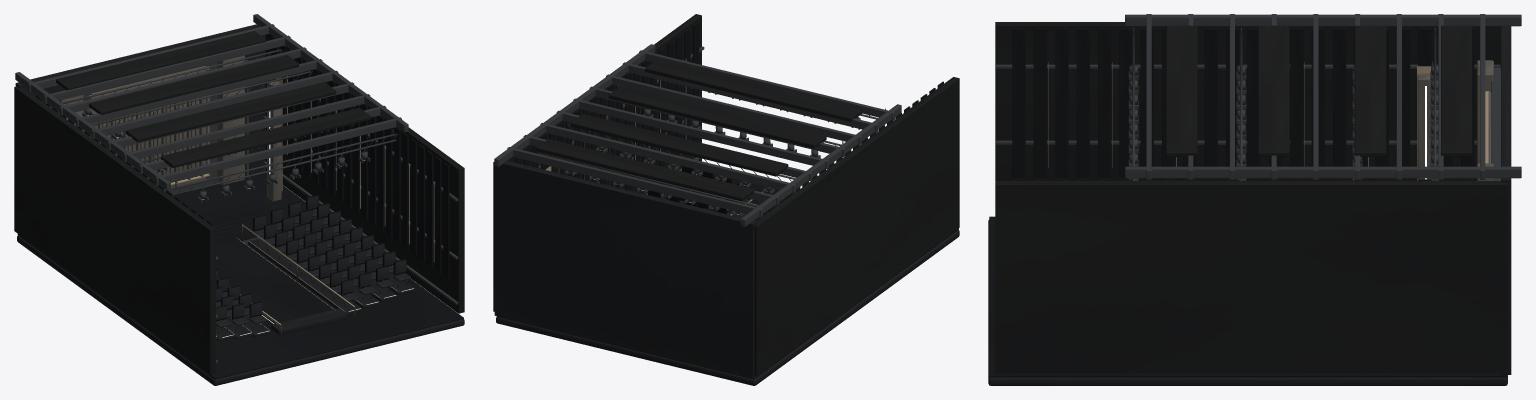
File: EXO01.glb
The picture shows the model from 3 angles, left to right: view 1: azimuth 30°, elevation 25°; view 2: azimuth 150°, elevation 25°; view 3: azimuth 270°, elevation 25°; orthographic projection. The views are drawn at different scales.
Visible parts, largest first — view 1: EXO_STAGE01_Architecture__Soft charcoal acoustic architectur, EXO_STAGE01_Architecture__Brushed black steel, EXO_STAGE01_ArchitecturalDetails__Black basalt with mineral , EXO_STAGE01_Architecture__Black basalt with mineral aggregat, EXO_STAGE01_Audience__Midnight grey wool boucle seating, EXO_STAGE01_Runway__Black basalt with mineral aggregat, EXO_STAGE01_Architecture__Dark concrete construction, EXO_STAGE01_Audience__Dark concrete construction, EXO_STAGE01_PracticalLighting__Brushed black steel, EXO_STAGE01_Architecture__Warm honed architectural limestone, EXO_STAGE01_Audience__Black leather seat shells, EXO_STAGE01_ArchitecturalDetails__Warm honed architectural l (+3 smaller); view 2: EXO_STAGE01_Architecture__Soft charcoal acoustic architectur, EXO_STAGE01_Architecture__Dark concrete construction, EXO_STAGE01_Architecture__Brushed black steel, EXO_STAGE01_ArchitecturalDetails__Black basalt with mineral , EXO_STAGE01_PracticalLighting__Brushed black steel, EXO_STAGE01_Architecture__Black basalt with mineral aggregat, EXO_STAGE01_Audience__Black leather seat shells; view 3: EXO_STAGE01_Architecture__Soft charcoal acoustic architectur, EXO_STAGE01_ArchitecturalDetails__Black basalt with mineral , EXO_STAGE01_Architecture__Brushed black steel, EXO_STAGE01_Architecture__Dark concrete construction, EXO_STAGE01_Architecture__Black basalt with mineral aggregat, EXO_STAGE01_PracticalLighting__Brushed black steel, EXO_STAGE01_Architecture__Warm honed architectural limestone, EXO_STAGE01_ArchitecturalDetails__Warm satin champagne stain.
Part boxes in pixels (box(x1,y1,x2,y2)): EXO_STAGE01_Architecture__Soft charcoal acoustic architectur: box(14, 31, 464, 374); EXO_STAGE01_Architecture__Brushed black steel: box(15, 14, 458, 362); EXO_STAGE01_ArchitecturalDetails__Black basalt with mineral : box(35, 37, 449, 279); EXO_STAGE01_Architecture__Black basalt with mineral aggregat: box(17, 174, 463, 379); EXO_STAGE01_Audience__Midnight grey wool boucle seating: box(216, 196, 410, 327); EXO_STAGE01_Runway__Black basalt with mineral aggregat: box(172, 182, 333, 323); EXO_STAGE01_Architecture__Dark concrete construction: box(15, 24, 464, 385); EXO_STAGE01_Audience__Dark concrete construction: box(216, 216, 415, 341); EXO_STAGE01_PracticalLighting__Brushed black steel: box(62, 49, 396, 202); EXO_STAGE01_Architecture__Warm honed architectural limestone: box(58, 55, 281, 201); EXO_STAGE01_Audience__Black leather seat shells: box(216, 194, 406, 321); EXO_STAGE01_ArchitecturalDetails__Warm honed architectural l: box(98, 96, 203, 185); EXO_STAGE01_Architecture__Soft charcoal acoustic architectur: box(493, 14, 959, 375); EXO_STAGE01_Architecture__Dark concrete construction: box(494, 160, 959, 385); EXO_STAGE01_Architecture__Brushed black steel: box(494, 44, 901, 226); EXO_STAGE01_ArchitecturalDetails__Black basalt with mineral : box(515, 22, 943, 217); EXO_STAGE01_PracticalLighting__Brushed black steel: box(538, 86, 877, 216); EXO_STAGE01_Architecture__Black basalt with mineral aggregat: box(497, 174, 958, 379); EXO_STAGE01_Audience__Black leather seat shells: box(648, 166, 750, 214); EXO_STAGE01_Architecture__Soft charcoal acoustic architectur: box(995, 22, 1507, 373); EXO_STAGE01_ArchitecturalDetails__Black basalt with mineral : box(1012, 28, 1474, 180); EXO_STAGE01_Architecture__Brushed black steel: box(996, 14, 1521, 180); EXO_STAGE01_Architecture__Dark concrete construction: box(988, 25, 1511, 385); EXO_STAGE01_Architecture__Black basalt with mineral aggregat: box(989, 216, 1506, 377); EXO_STAGE01_PracticalLighting__Brushed black steel: box(1128, 33, 1439, 180); EXO_STAGE01_Architecture__Warm honed architectural limestone: box(1417, 60, 1493, 180); EXO_STAGE01_ArchitecturalDetails__Warm satin champagne stain: box(1048, 62, 1489, 180).
Size of the model in its own units: 11.27 by 7.03 by 15.6.
12 materials, 7 textured.
